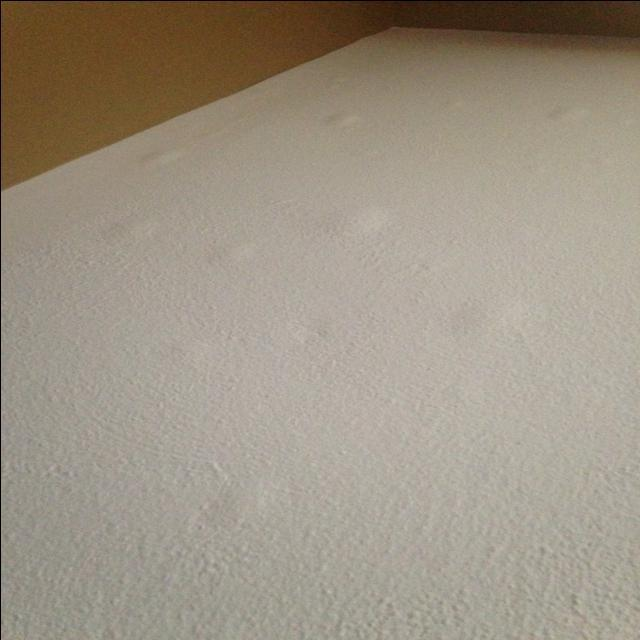tile: (209, 466, 285, 524), (456, 292, 538, 338), (341, 203, 406, 246), (546, 100, 604, 134), (106, 214, 166, 240), (210, 233, 256, 266), (143, 146, 194, 164), (332, 109, 370, 127)
